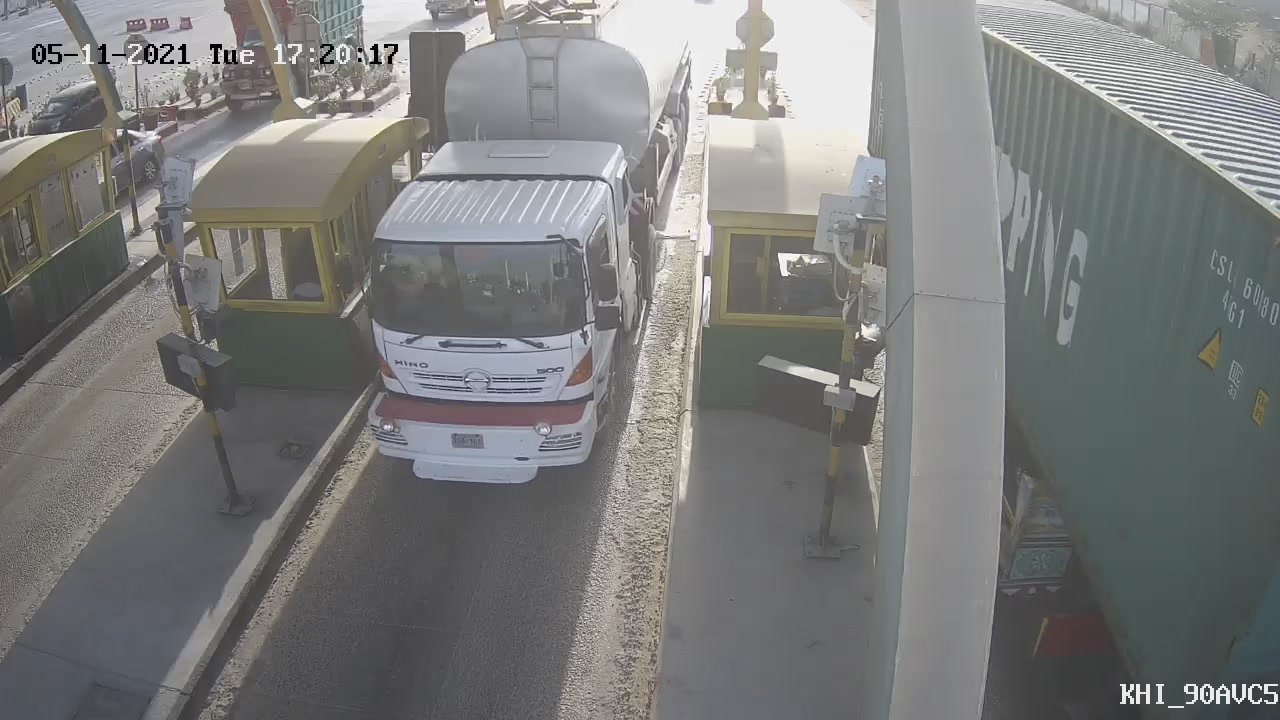F6: (318, 4, 709, 518)
